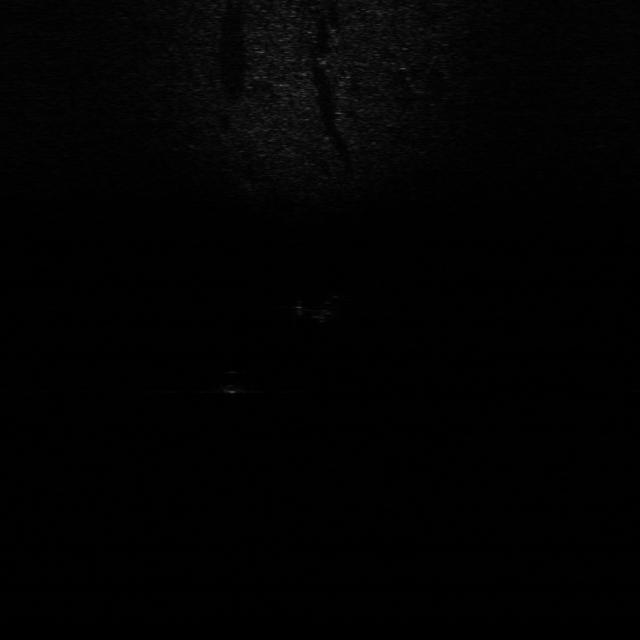ball: (213, 370, 254, 398)
human body: (293, 292, 352, 325)
